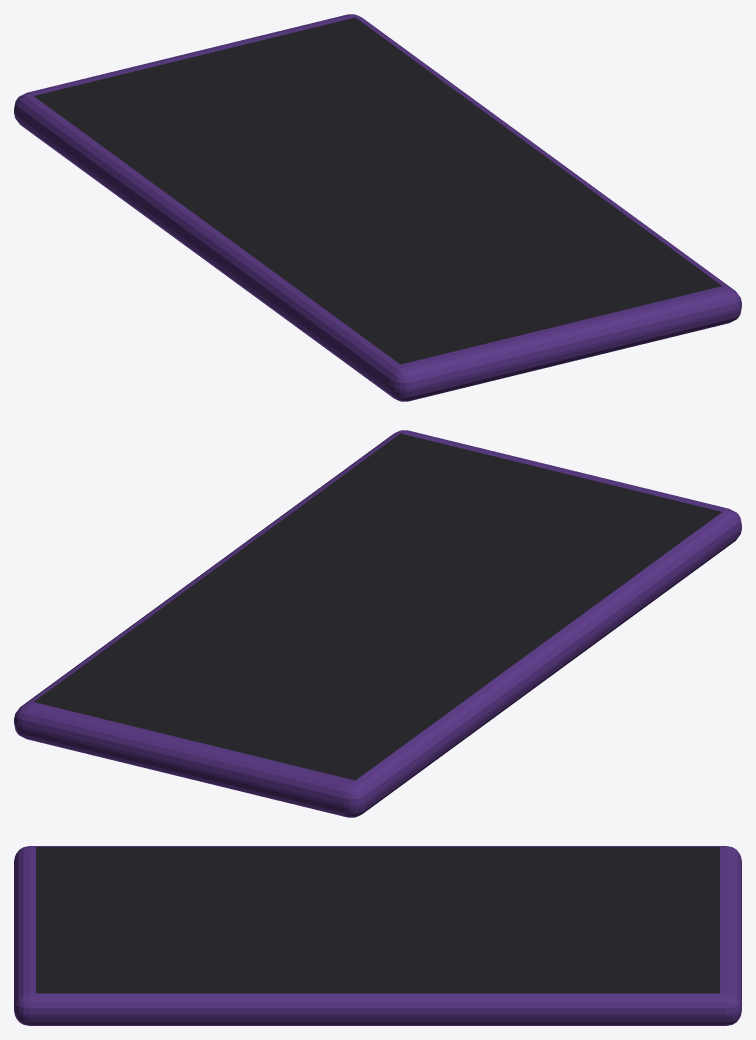
The model's file is iqoo-neo-model-184-budget-2022.glb.
3 renders of one model, top to bottom at view 1: azimuth 30°, elevation 25°; view 2: azimuth 150°, elevation 25°; view 3: azimuth 270°, elevation 25°, orthographic. The views are drawn at different scales.
Parts seen in each view (by area): view 1: Phone_Screen, Phone_Body; view 2: Phone_Screen, Phone_Body; view 3: Phone_Screen, Phone_Body.
Part boxes in pixels (x1,y1,x2,y2): Phone_Screen: [34, 17, 721, 364]; Phone_Body: [14, 14, 741, 401]; Phone_Screen: [34, 433, 721, 780]; Phone_Body: [14, 430, 741, 817]; Phone_Screen: [36, 847, 719, 993]; Phone_Body: [14, 846, 741, 1025].
Bounding box in the file's own units: 0.0799 × 0.0073 × 0.1544.
